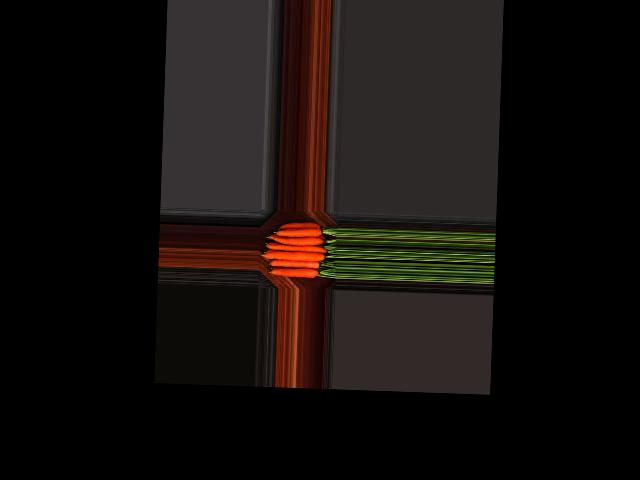carrot: (273, 217, 321, 232)
